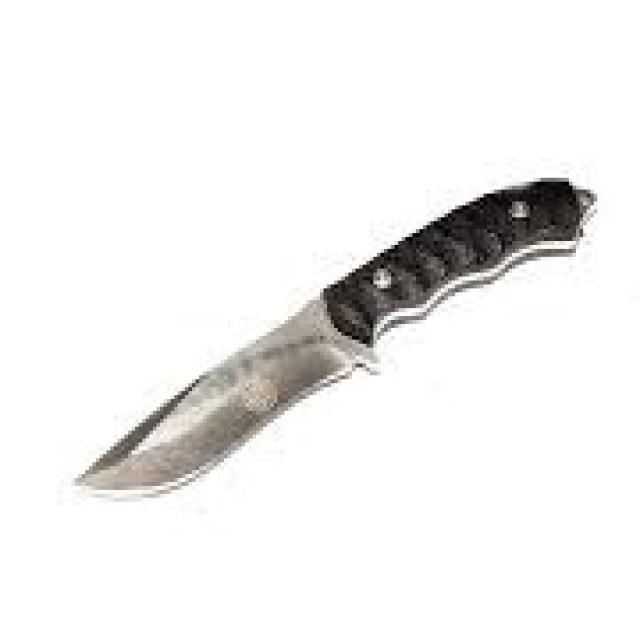knife: (72, 166, 604, 516)
